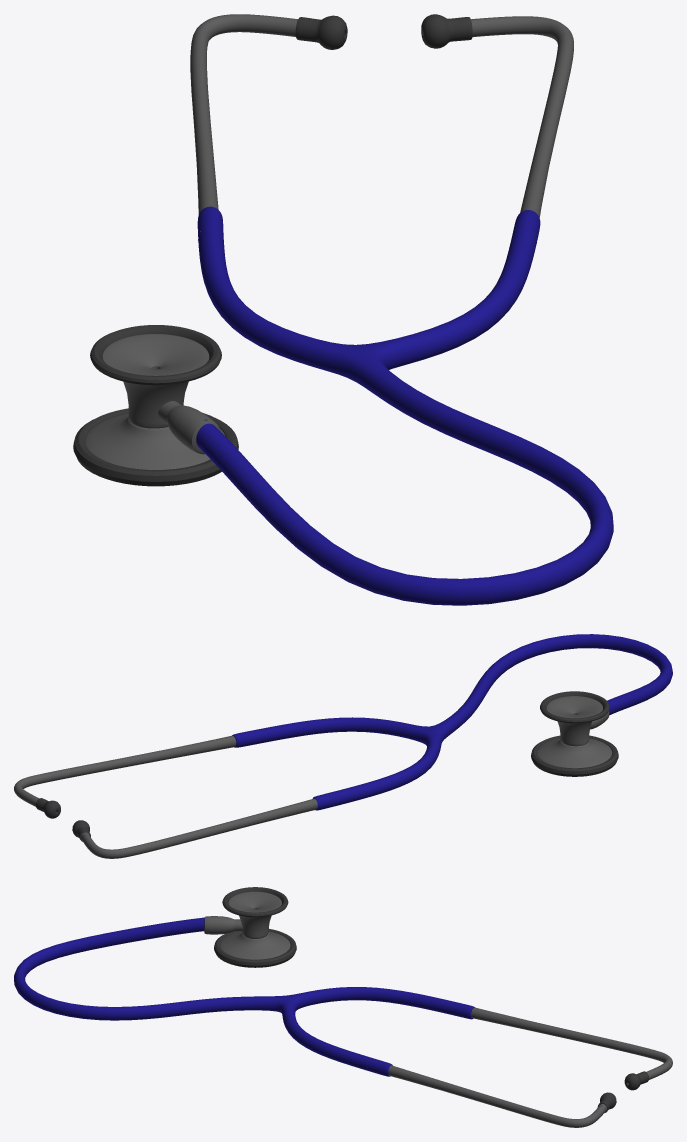
Rendered from blue sethescope fbx.FBX.
The picture shows the model from 3 angles, top to bottom: view 1: azimuth 30°, elevation 25°; view 2: azimuth 150°, elevation 25°; view 3: azimuth 270°, elevation 25°; orthographic projection. The views are drawn at different scales.
Parts seen in each view (by area): view 1: cadnav.com; view 2: cadnav.com; view 3: cadnav.com.
Boxes of the visible parts, x1,y1,x2,y2 form: cadnav.com: (73,14,613,605); cadnav.com: (14,634,672,858); cadnav.com: (14,887,672,1127).
Bounding box in the file's own units: 116 × 15.03 × 165.
